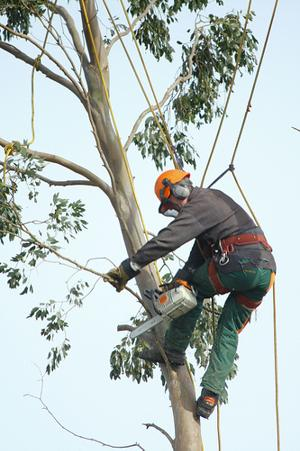person: (102, 171, 277, 420)
